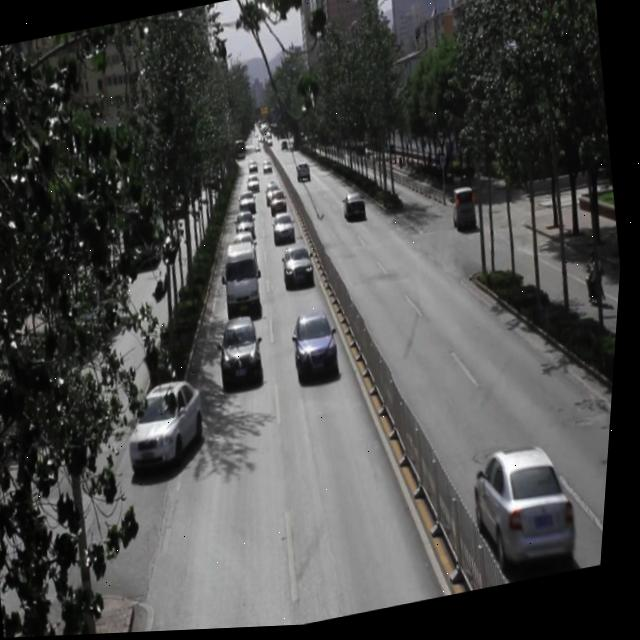car: (473, 438, 588, 575), (124, 377, 218, 476), (216, 314, 272, 393), (291, 309, 347, 387), (281, 244, 319, 294), (233, 228, 261, 263), (343, 191, 370, 227), (274, 213, 300, 248), (236, 212, 260, 240), (270, 190, 290, 218)
truck: (221, 242, 269, 320), (449, 186, 484, 235)
